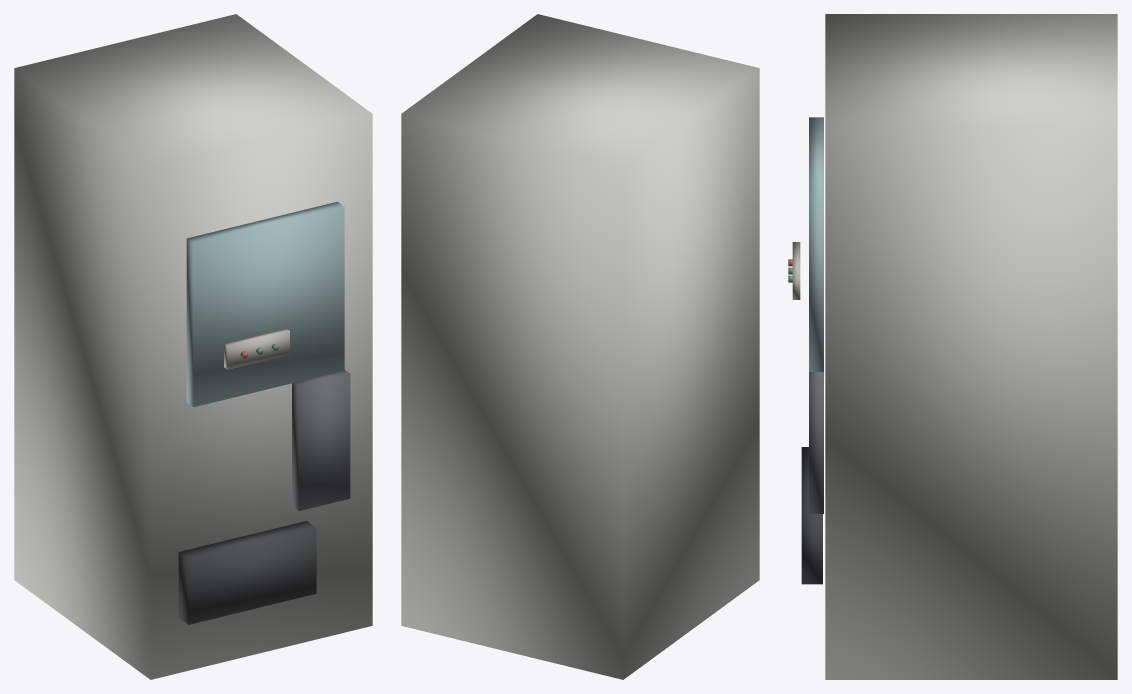
Rendered from snack_vending_machine__deep.glb.
The picture shows the model from 3 angles, left to right: view 1: azimuth 30°, elevation 25°; view 2: azimuth 150°, elevation 25°; view 3: azimuth 270°, elevation 25°; orthographic projection. The views are drawn at different scales.
Visible parts, largest first — view 1: world; view 2: world; view 3: world.
Part boxes in pixels (x1,y1,x2,y2): world: [14, 14, 372, 679]; world: [401, 14, 759, 679]; world: [788, 14, 1117, 679].
Bounding box in the file's own units: 0.78 × 1.72 × 0.9345.
